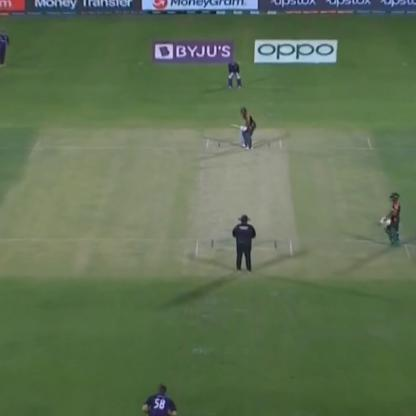bat: (224, 122, 246, 130)
pitch: (196, 134, 288, 262)
